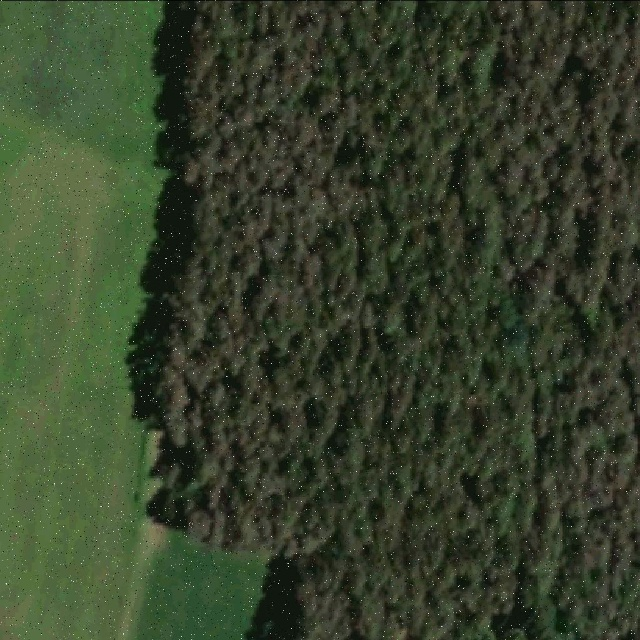vegetation: (148, 0, 640, 640)
